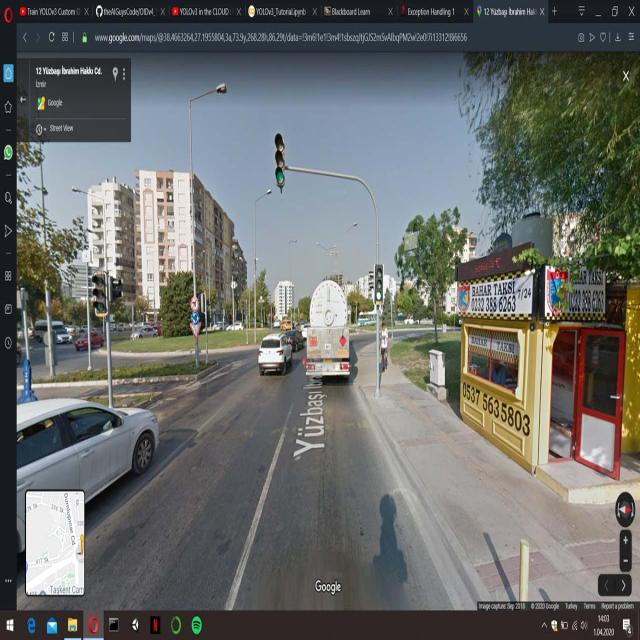soladonulmez: (192, 297, 198, 311)
yesil: (274, 133, 286, 186), (373, 265, 382, 303)
